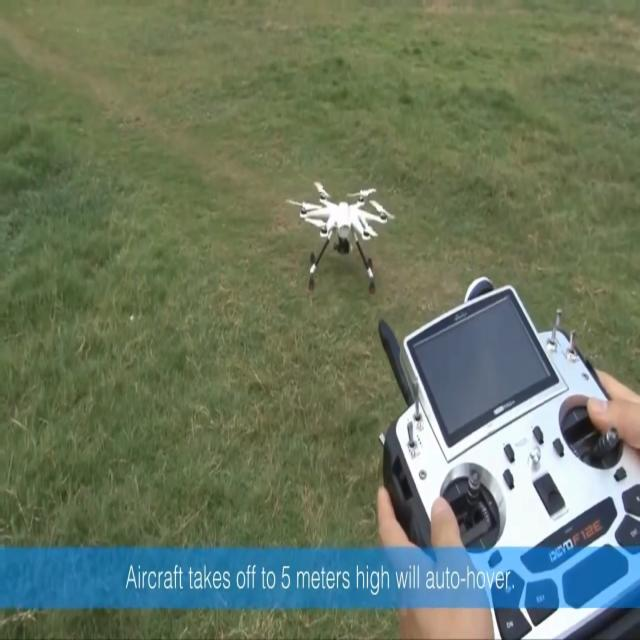drone: (285, 180, 395, 295)
